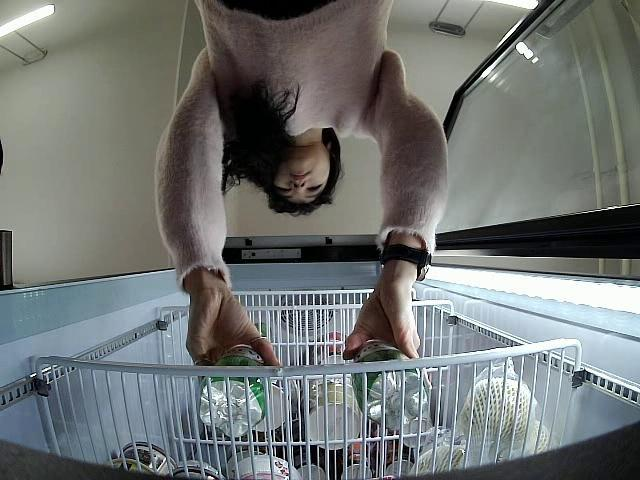18_trevi: (352, 340, 429, 431), (196, 348, 272, 439)
